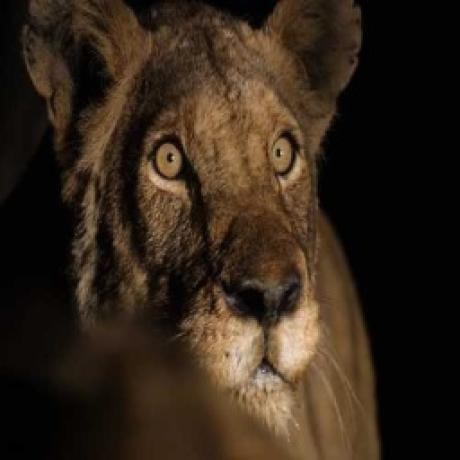Lion: (17, 0, 392, 460)
